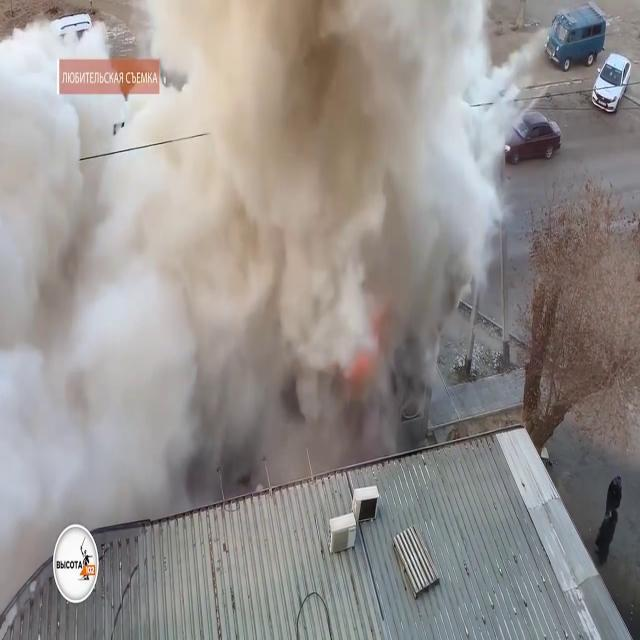Smoke: (0, 0, 515, 486)
